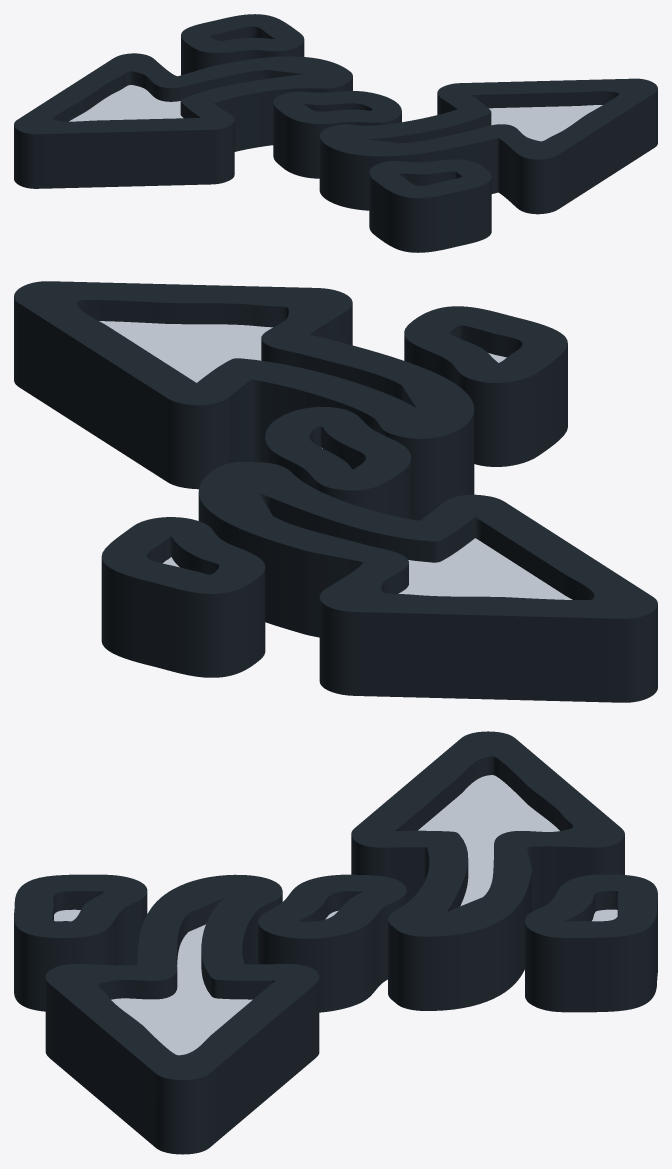
Rendered from Edit5.glb.
3 renders of one model, top to bottom at view 1: azimuth 30°, elevation 25°; view 2: azimuth 150°, elevation 25°; view 3: azimuth 270°, elevation 25°, orthographic. The views are drawn at different scales.
Visible parts, largest first — view 1: Curve.052; view 2: Curve.052; view 3: Curve.052.
Boxes of the visible parts, left/top/right/bottom form: Curve.052: left=14, top=14, right=657, bottom=252; Curve.052: left=14, top=281, right=657, bottom=702; Curve.052: left=14, top=731, right=657, bottom=1154.
Bounding box in the file's own units: 1.99 × 0.198 × 1.55.
Materials: 1 (1 with a texture image).
